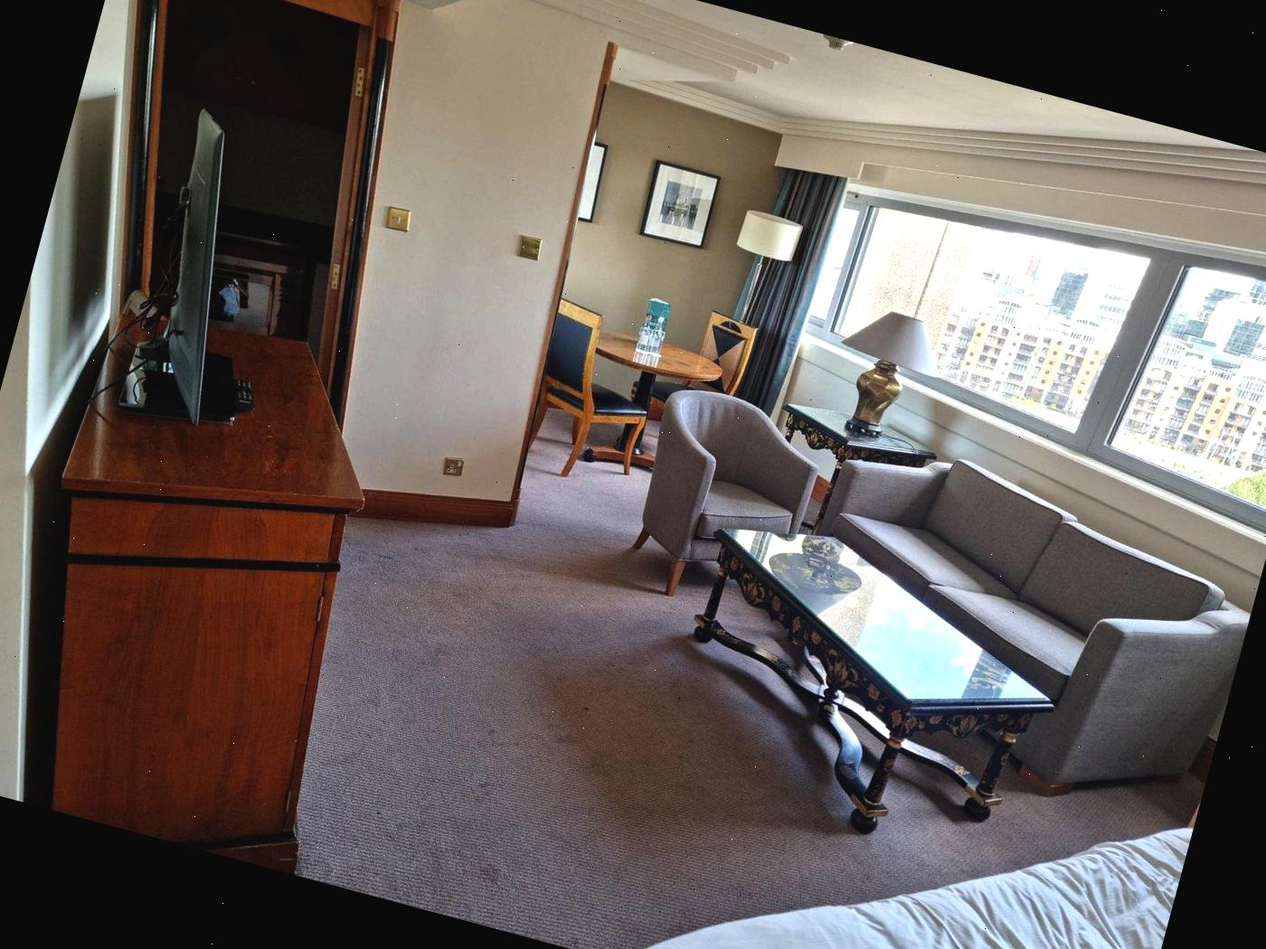chair: (613, 387, 829, 618), (534, 296, 640, 474)
clean_floor: (300, 476, 1200, 949)
lamp: (835, 301, 949, 460), (716, 210, 807, 340)
organized table: (687, 528, 1054, 829), (593, 332, 715, 426)
